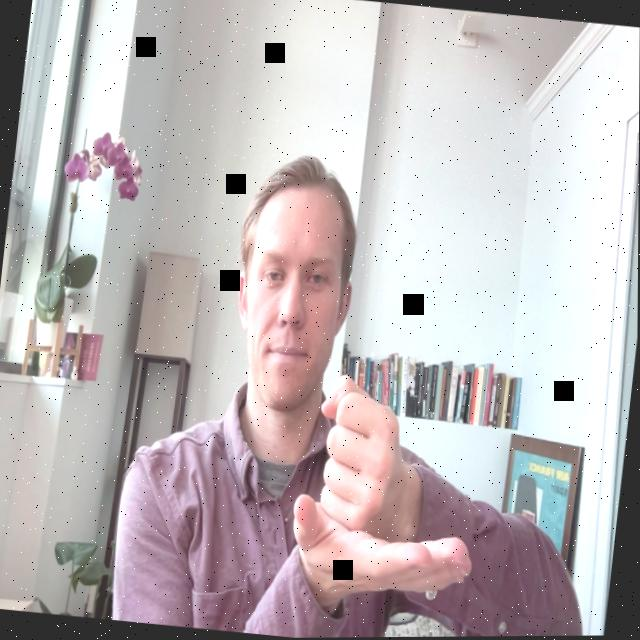Rock: (307, 367, 410, 530)
